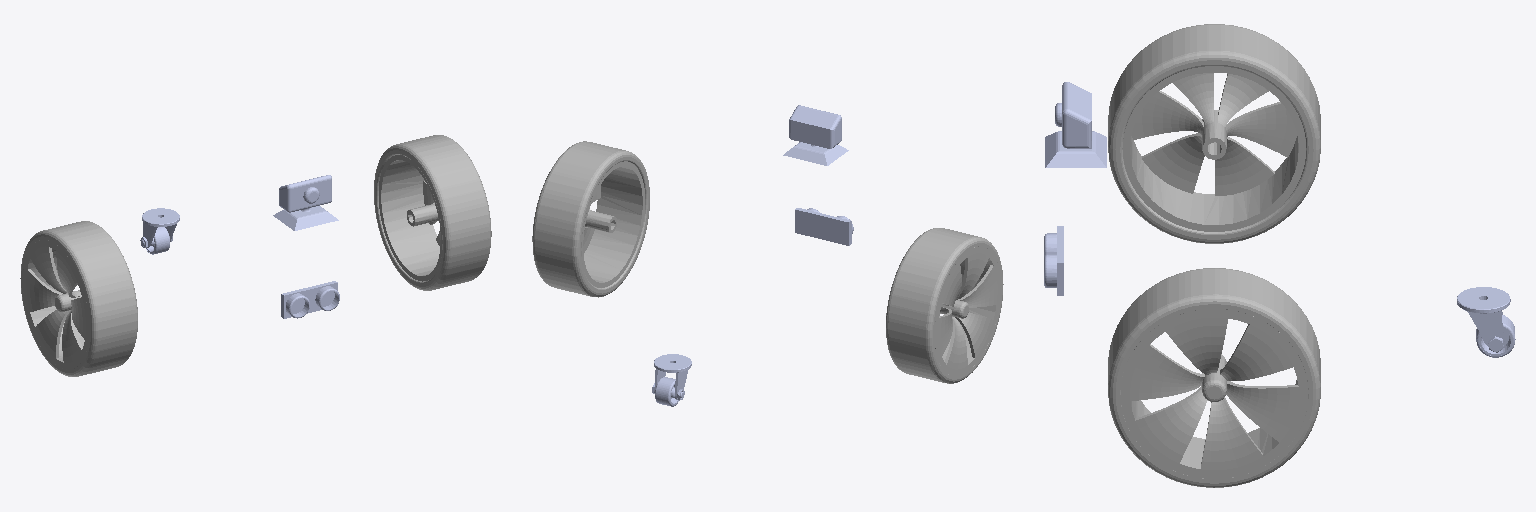
The robot description file, URDF, robot "flat_exploration_robot":
<?xml version="1.0" encoding="utf-8"?>
<!-- This URDF was automatically created by SolidWorks to URDF Exporter! Originally created by [author] ([email redacted]) 
     Commit Version: 1.6.0-4-g7f85cfe  Build Version: 1.6.7995.38578
     For more information, please see http://wiki.ros.org/sw_urdf_exporter -->
<robot
  name="flat_exploration_robot">
  <link
    name="base_link">
    <inertial>
      <origin
        xyz="-0.00170240533209981 0.0258535998113955 0.00518967680626991"
        rpy="0 0 0" />
      <mass
        value="0.520889390983862" />
      <inertia
        ixx="0.00138954204116713"
        ixy="-9.50836142281639E-10"
        ixz="1.02393622762989E-06"
        iyy="0.00293618565239995"
        iyz="8.49271524475628E-07"
        izz="0.00156463783284232" />
    </inertial>
    <visual>
      <origin
        xyz="0 0 0"
        rpy="0 0 0" />
      <geometry>
        <mesh
          filename="package://flat_exploration_robot/meshes/base_link.STL" />
      </geometry>
      <material
        name="">
        <color
          rgba="0.792156862745098 0.819607843137255 0.933333333333333 1" />
      </material>
    </visual>
    <collision>
      <origin
        xyz="0 0 0"
        rpy="0 0 0" />
      <geometry>
        <mesh
          filename="package://flat_exploration_robot/meshes/base_link.STL" />
      </geometry>
    </collision>
  </link>
  <link
    name="Wheel_R_Link">
    <inertial>
      <origin
        xyz="0.016798 1.9704E-07 -1.4445E-07"
        rpy="0 0 0" />
      <mass
        value="0.064086" />
      <inertia
        ixx="9.2188E-05"
        ixy="-1.0171E-10"
        ixz="6.8702E-11"
        iyy="5.1693E-05"
        iyz="2.0947E-10"
        izz="5.1693E-05" />
    </inertial>
    <visual>
      <origin
        xyz="0 0 0"
        rpy="0 0 0" />
      <geometry>
        <mesh
          filename="package://flat_exploration_robot/meshes/Wheel_R_Link.STL" />
      </geometry>
      <material
        name="">
        <color
          rgba="0.75294 0.75294 0.75294 1" />
      </material>
    </visual>
    <collision>
      <origin
        xyz="0 0 0"
        rpy="0 0 0" />
      <geometry>
        <mesh
          filename="package://flat_exploration_robot/meshes/Wheel_R_Link.STL" />
      </geometry>
    </collision>
  </link>
  <joint
    name="Wheel_R_Joint"
    type="continuous">
    <origin
      xyz="-0.10419 -0.032192 0.011583"
      rpy="2.7415 0 -3.1416" />
    <parent
      link="base_link" />
    <child
      link="Wheel_R_Link" />
    <axis
      xyz="1 0 0" />
  </joint>
  <link
    name="Wheel_L_Link">
    <inertial>
      <origin
        xyz="0.016798 6.6401E-08 -3.1185E-07"
        rpy="0 0 0" />
      <mass
        value="0.064086" />
      <inertia
        ixx="9.2188E-05"
        ixy="-3.2558E-11"
        ixz="1.6386E-10"
        iyy="5.1693E-05"
        iyz="1.7698E-10"
        izz="5.1693E-05" />
    </inertial>
    <visual>
      <origin
        xyz="0 0 0"
        rpy="0 0 0" />
      <geometry>
        <mesh
          filename="package://flat_exploration_robot/meshes/Wheel_L_Link.STL" />
      </geometry>
      <material
        name="">
        <color
          rgba="0.75294 0.75294 0.75294 1" />
      </material>
    </visual>
    <collision>
      <origin
        xyz="0 0 0"
        rpy="0 0 0" />
      <geometry>
        <mesh
          filename="package://flat_exploration_robot/meshes/Wheel_L_Link.STL" />
      </geometry>
    </collision>
  </link>
  <joint
    name="Wheel_L_Joint"
    type="continuous">
    <origin
      xyz="0.10081 -0.032192 0.011583"
      rpy="-1.8682 0 0" />
    <parent
      link="base_link" />
    <child
      link="Wheel_L_Link" />
    <axis
      xyz="1 0 0" />
  </joint>
  <link
    name="Caster_Link">
    <inertial>
      <origin
        xyz="-0.00092189 -0.0043701 -5.421E-18"
        rpy="0 0 0" />
      <mass
        value="0.0012351" />
      <inertia
        ixx="7.7997E-08"
        ixy="-9.0404E-09"
        ixz="9.2851E-23"
        iyy="7.6292E-08"
        iyz="-7.2934E-23"
        izz="6.2711E-08" />
    </inertial>
    <visual>
      <origin
        xyz="0 0 0"
        rpy="0 0 0" />
      <geometry>
        <mesh
          filename="package://flat_exploration_robot/meshes/Caster_Link.STL" />
      </geometry>
      <material
        name="">
        <color
          rgba="0.79216 0.81961 0.93333 1" />
      </material>
    </visual>
    <collision>
      <origin
        xyz="0 0 0"
        rpy="0 0 0" />
      <geometry>
        <mesh
          filename="package://flat_exploration_robot/meshes/Caster_Link.STL" />
      </geometry>
    </collision>
  </link>
  <joint
    name="Caster_Joint"
    type="continuous">
    <origin
      xyz="-0.0016872 0.077808 -0.0074166"
      rpy="1.5708 0 -1.5607" />
    <parent
      link="base_link" />
    <child
      link="Caster_Link" />
    <axis
      xyz="0 1 0" />
  </joint>
  <link
    name="CasterWheel_Link">
    <inertial>
      <origin
        xyz="-4.2904E-06 -2.0892E-11 -6.632E-05"
        rpy="0 0 0" />
      <mass
        value="0.0015057" />
      <inertia
        ixx="4.1476E-08"
        ixy="3.8863E-16"
        ixz="-8.5775E-12"
        iyy="4.1501E-08"
        iyz="-2.5539E-16"
        izz="4.8832E-08" />
    </inertial>
    <visual>
      <origin
        xyz="0 0 0"
        rpy="0 0 0" />
      <geometry>
        <mesh
          filename="package://flat_exploration_robot/meshes/CasterWheel_Link.STL" />
      </geometry>
      <material
        name="">
        <color
          rgba="0.79216 0.81961 0.93333 1" />
      </material>
    </visual>
    <collision>
      <origin
        xyz="0 0 0"
        rpy="0 0 0" />
      <geometry>
        <mesh
          filename="package://flat_exploration_robot/meshes/CasterWheel_Link.STL" />
      </geometry>
    </collision>
  </link>
  <joint
    name="CasterWheel_Joint"
    type="continuous">
    <origin
      xyz="-0.005 -0.017 0"
      rpy="0 0 -1.3801" />
    <parent
      link="Caster_Link" />
    <child
      link="CasterWheel_Link" />
    <axis
      xyz="0 0 1" />
  </joint>
  <link
    name="Ultrasonic_Link">
    <inertial>
      <origin
        xyz="3.0358E-18 0 0.0022557"
        rpy="0 0 0" />
      <mass
        value="0.0020101" />
      <inertia
        ixx="4.5366E-08"
        ixy="1.8495E-23"
        ixz="-1.2564E-23"
        iyy="2.2896E-07"
        iyz="2.0553E-25"
        izz="2.6086E-07" />
    </inertial>
    <visual>
      <origin
        xyz="0 0 0"
        rpy="0 0 0" />
      <geometry>
        <mesh
          filename="package://flat_exploration_robot/meshes/Ultrasonic_Link.STL" />
      </geometry>
      <material
        name="">
        <color
          rgba="0.79216 0.81961 0.93333 1" />
      </material>
    </visual>
    <collision>
      <origin
        xyz="0 0 0"
        rpy="0 0 0" />
      <geometry>
        <mesh
          filename="package://flat_exploration_robot/meshes/Ultrasonic_Link.STL" />
      </geometry>
    </collision>
  </link>
  <joint
    name="Ultrasonic_Joint"
    type="fixed">
    <origin
      xyz="-0.0022649 -0.093702 0.0090834"
      rpy="1.5708 0 0" />
    <parent
      link="base_link" />
    <child
      link="Ultrasonic_Link" />
    <axis
      xyz="0 0 0" />
  </joint>
  <link
    name="Camera_Link">
    <inertial>
      <origin
        xyz="4.864E-09 0.011658 0.00013706"
        rpy="0 0 0" />
      <mass
        value="0.0083079" />
      <inertia
        ixx="6.2579E-07"
        ixy="9.2136E-13"
        ixz="1.0311E-12"
        iyy="7.0922E-07"
        iyz="-2.1483E-08"
        izz="1.0034E-06" />
    </inertial>
    <visual>
      <origin
        xyz="0 0 0"
        rpy="0 0 0" />
      <geometry>
        <mesh
          filename="package://flat_exploration_robot/meshes/Camera_Link.STL" />
      </geometry>
      <material
        name="">
        <color
          rgba="0.79216 0.81961 0.93333 1" />
      </material>
    </visual>
    <collision>
      <origin
        xyz="0 0 0"
        rpy="0 0 0" />
      <geometry>
        <mesh
          filename="package://flat_exploration_robot/meshes/Camera_Link.STL" />
      </geometry>
    </collision>
  </link>
  <joint
    name="Camera_Joint"
    type="fixed">
    <origin
      xyz="-0.00098996 -0.088796 0.058583"
      rpy="1.5708 0 0" />
    <parent
      link="base_link" />
    <child
      link="Camera_Link" />
    <axis
      xyz="0 0 0" />
  </joint>
</robot>

--- Facts derived from the render (not from the file) ---
3 views of the same robot in one strip: view 1: azimuth 30°, elevation 25°; view 2: azimuth 150°, elevation 25°; view 3: azimuth 270°, elevation 25° (orthographic).
Robot: flat_exploration_robot — 7 links, 6 joints (4 continuous, 2 fixed); root link base_link; default pose: every joint at zero.
Links seen in each view (by area): view 1: Wheel_R_Link, Wheel_L_Link, Camera_Link, Ultrasonic_Link, Caster_Link; view 2: Wheel_R_Link, Wheel_L_Link, Camera_Link, Ultrasonic_Link, Caster_Link, CasterWheel_Link; view 3: Wheel_R_Link, Wheel_L_Link, Camera_Link, Caster_Link, Ultrasonic_Link, CasterWheel_Link.
Link boxes in pixels (<box>): Wheel_R_Link: <box>20,221,137,376</box>; Wheel_L_Link: <box>374,135,491,290</box>; Camera_Link: <box>273,175,338,230</box>; Ultrasonic_Link: <box>281,281,339,318</box>; Caster_Link: <box>142,208,179,247</box>; Wheel_R_Link: <box>886,228,1003,383</box>; Wheel_L_Link: <box>532,141,649,297</box>; Camera_Link: <box>783,105,848,165</box>; Ultrasonic_Link: <box>795,208,853,245</box>; Caster_Link: <box>654,354,691,399</box>; CasterWheel_Link: <box>652,377,684,406</box>; Wheel_R_Link: <box>1108,24,1320,243</box>; Wheel_L_Link: <box>1108,268,1320,487</box>; Camera_Link: <box>1045,82,1106,167</box>; Caster_Link: <box>1457,287,1510,346</box>; Ultrasonic_Link: <box>1044,226,1063,295</box>; CasterWheel_Link: <box>1476,315,1515,357</box>.
Bounding box of the posed robot: 0.267 × 0.1925 × 0.1167 m (x, y, z).
Meshes: 7 distinct files referenced, 6 mesh visuals loaded (6 binary STL); not drawn: 1 (reference not matched to a file when rendering).